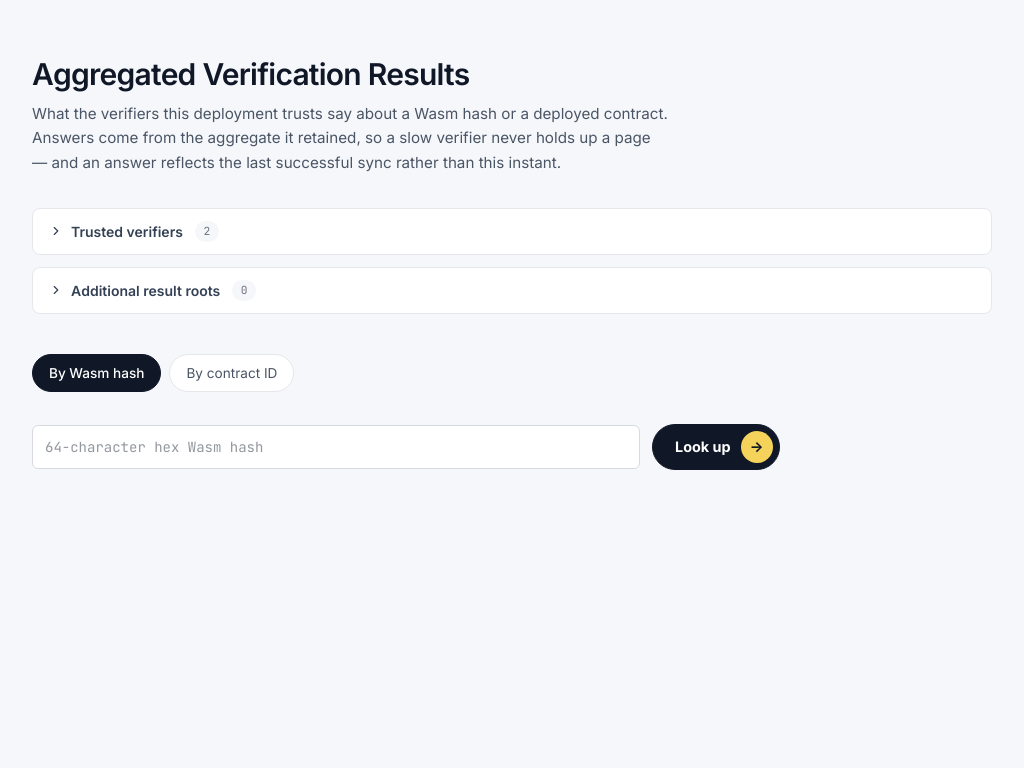
Test case: the aggregator page › an added root shows in the badge and is gone when removed
The width and height of the screenshot is (1024, 768).
Click the button with test id "roots-section-toggle" at [146, 290], box [33,268,991,313]
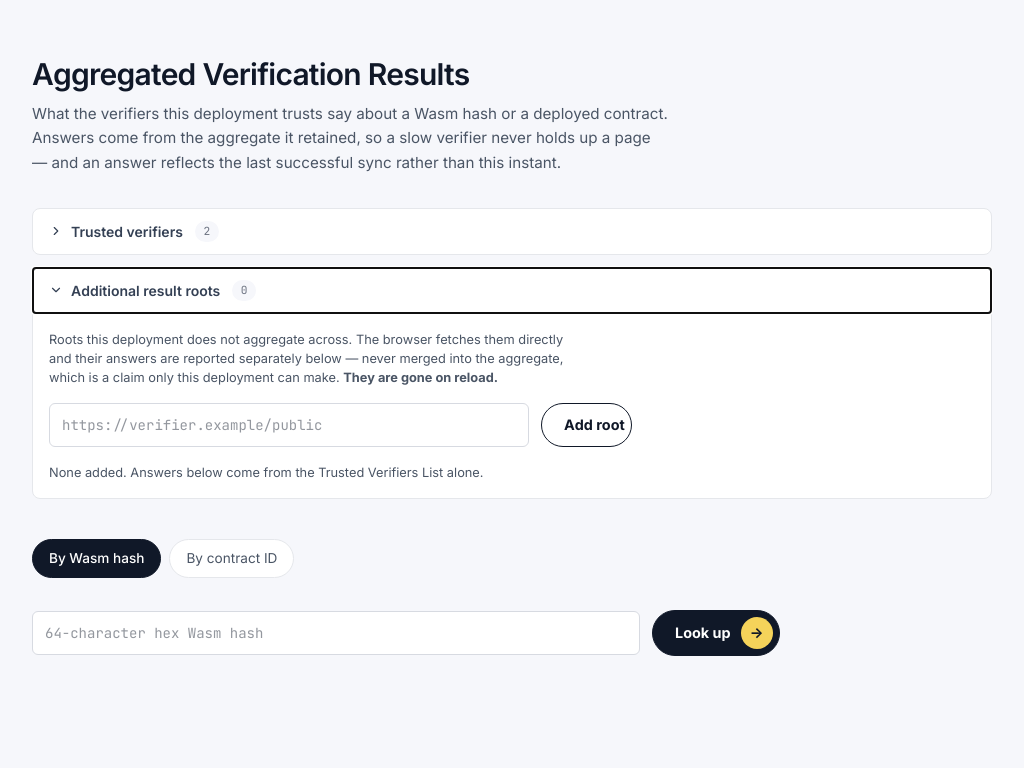
Type "https://peer.example/public" into the field named "Additional result root" at [289, 425], box [49,403,529,447]
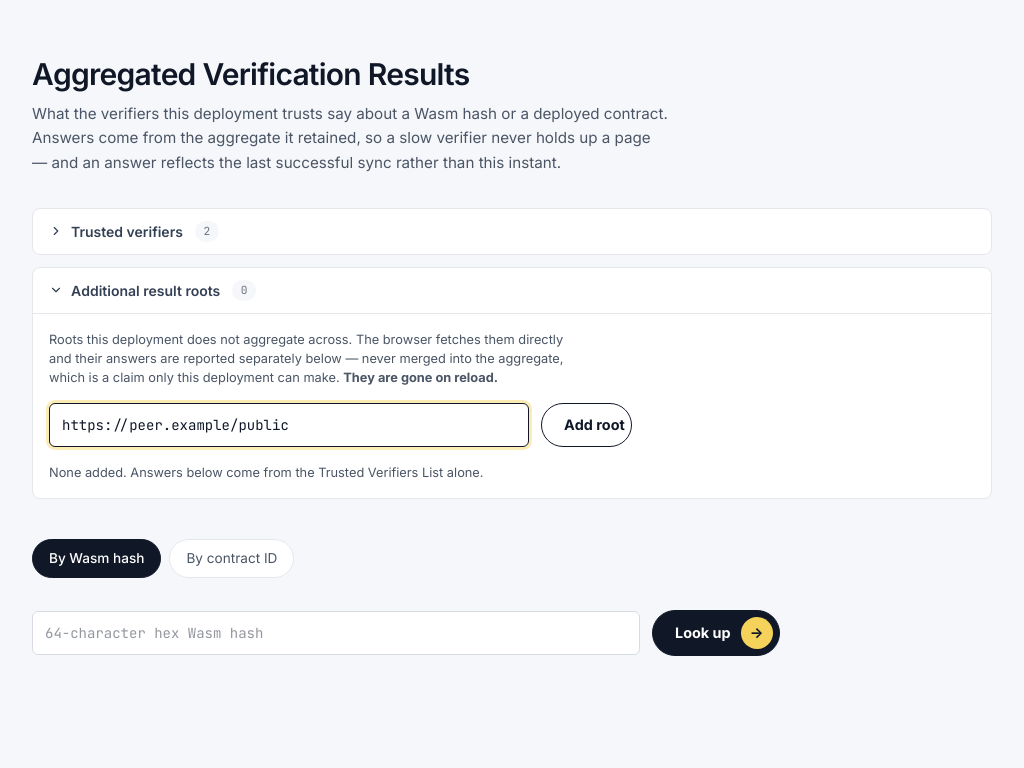
Click the button "Add root" at [586, 425], box [541,403,632,447]
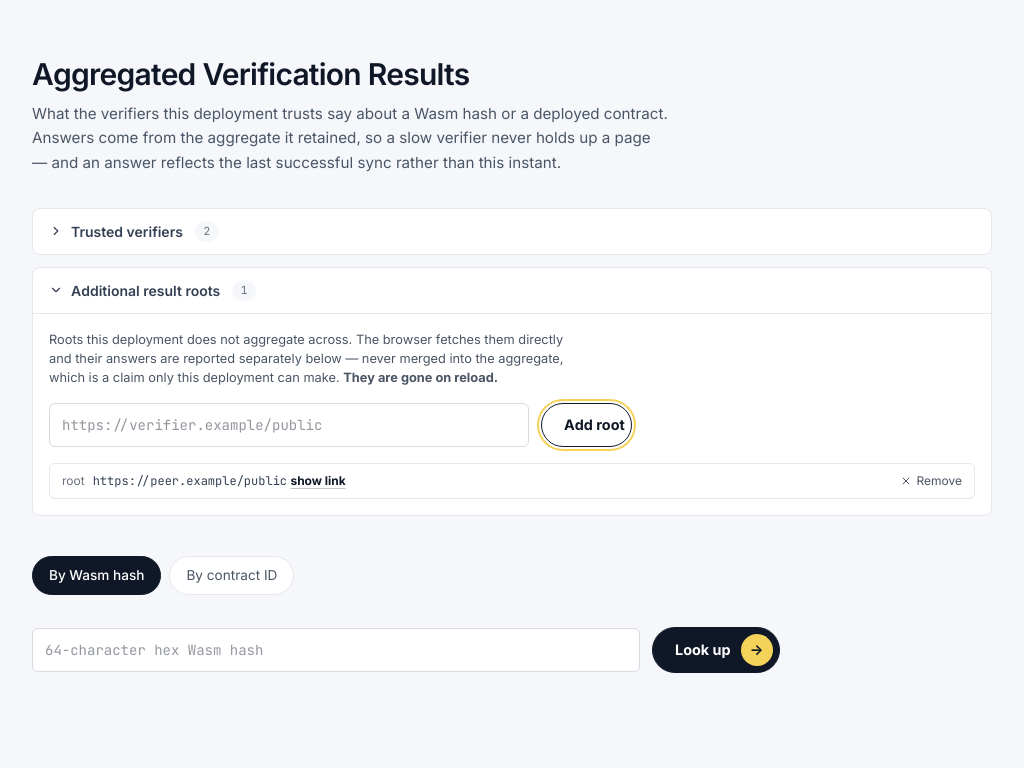
Check: the text with test id "roots-section-badge" reads "1", box [241,283,248,297]
Click the button "Remove" at [931, 481], box [900,472,962,490]
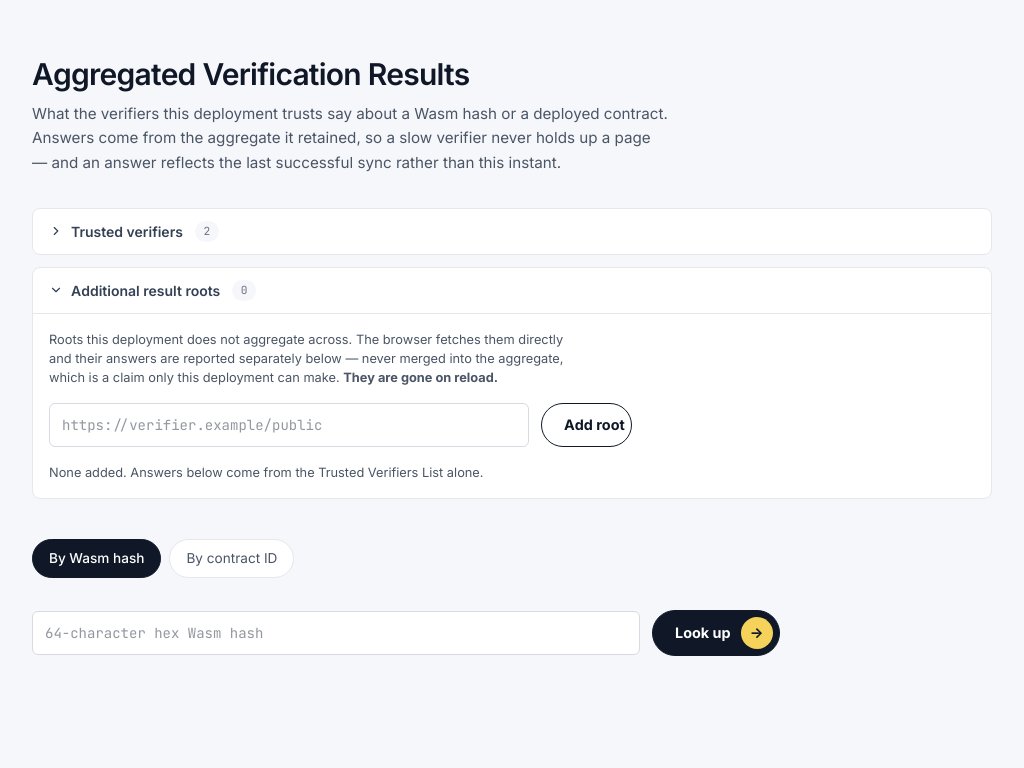
Check: the text with test id "roots-section-badge" reads "0", box [241,283,248,297]
